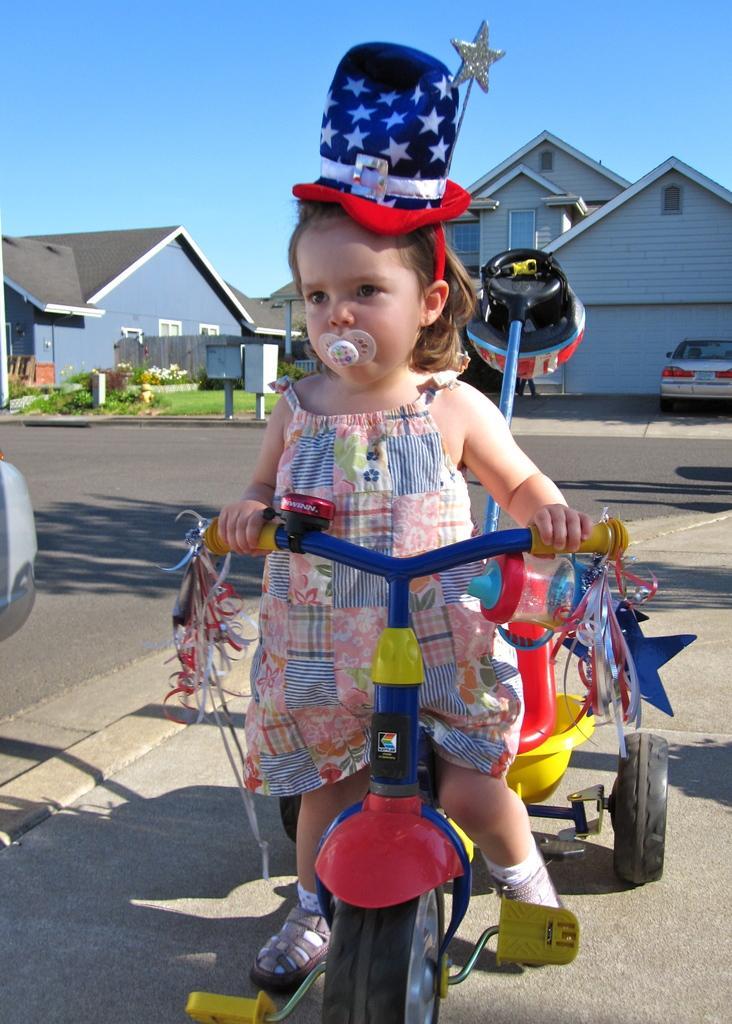Hat: (288, 39, 480, 282)
